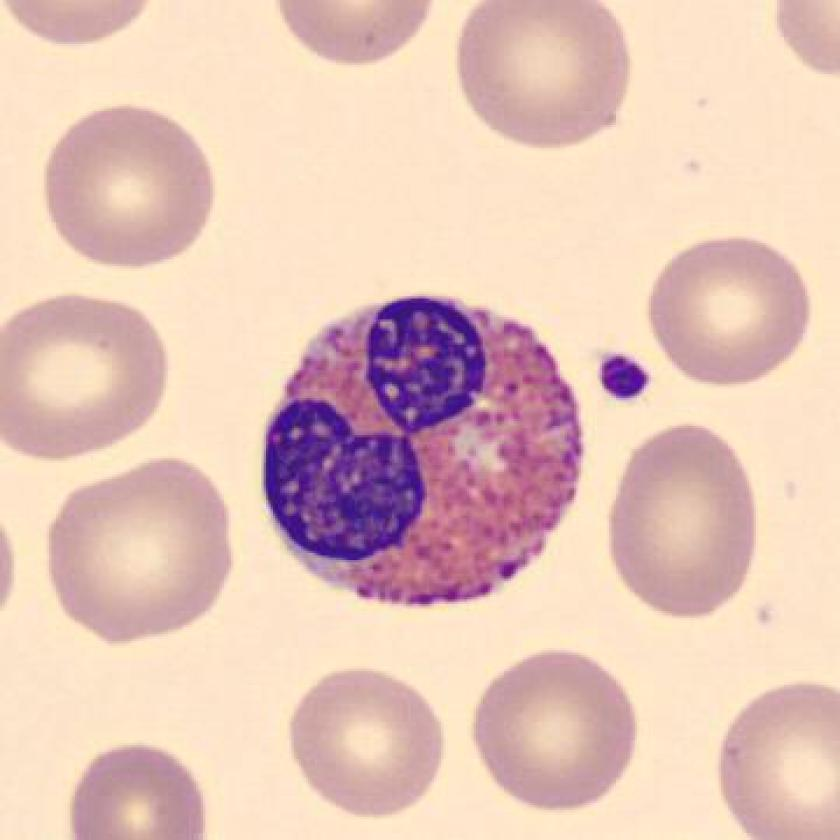eosinophil: (253, 279, 596, 626)
